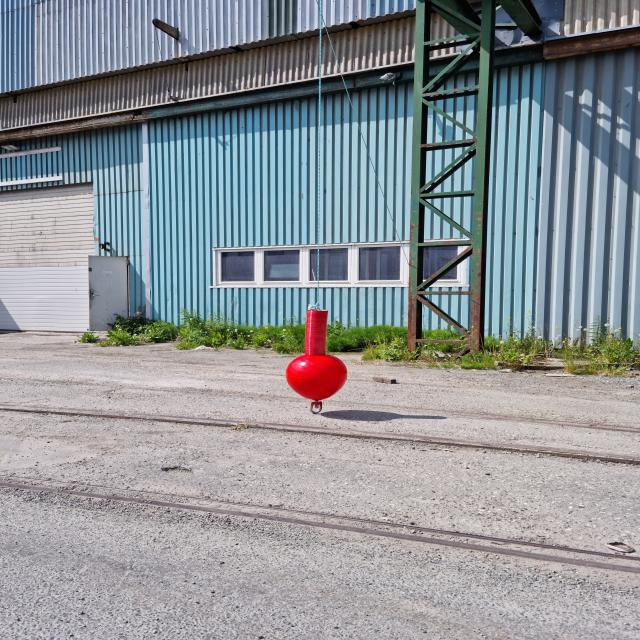red: (287, 310, 349, 399)
